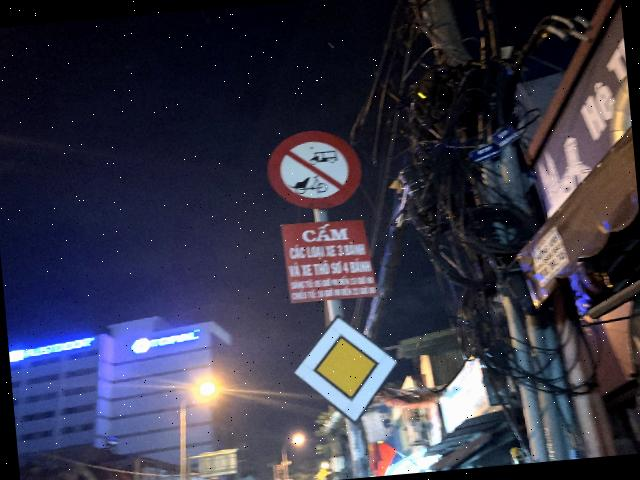bat-dau-duong-uu-tien: (288, 308, 404, 428)
cam-xe-3-banh-xe-tho-so-4-banh: (262, 125, 365, 214)
